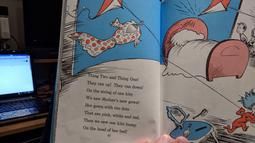text block: (82, 69, 145, 136)
